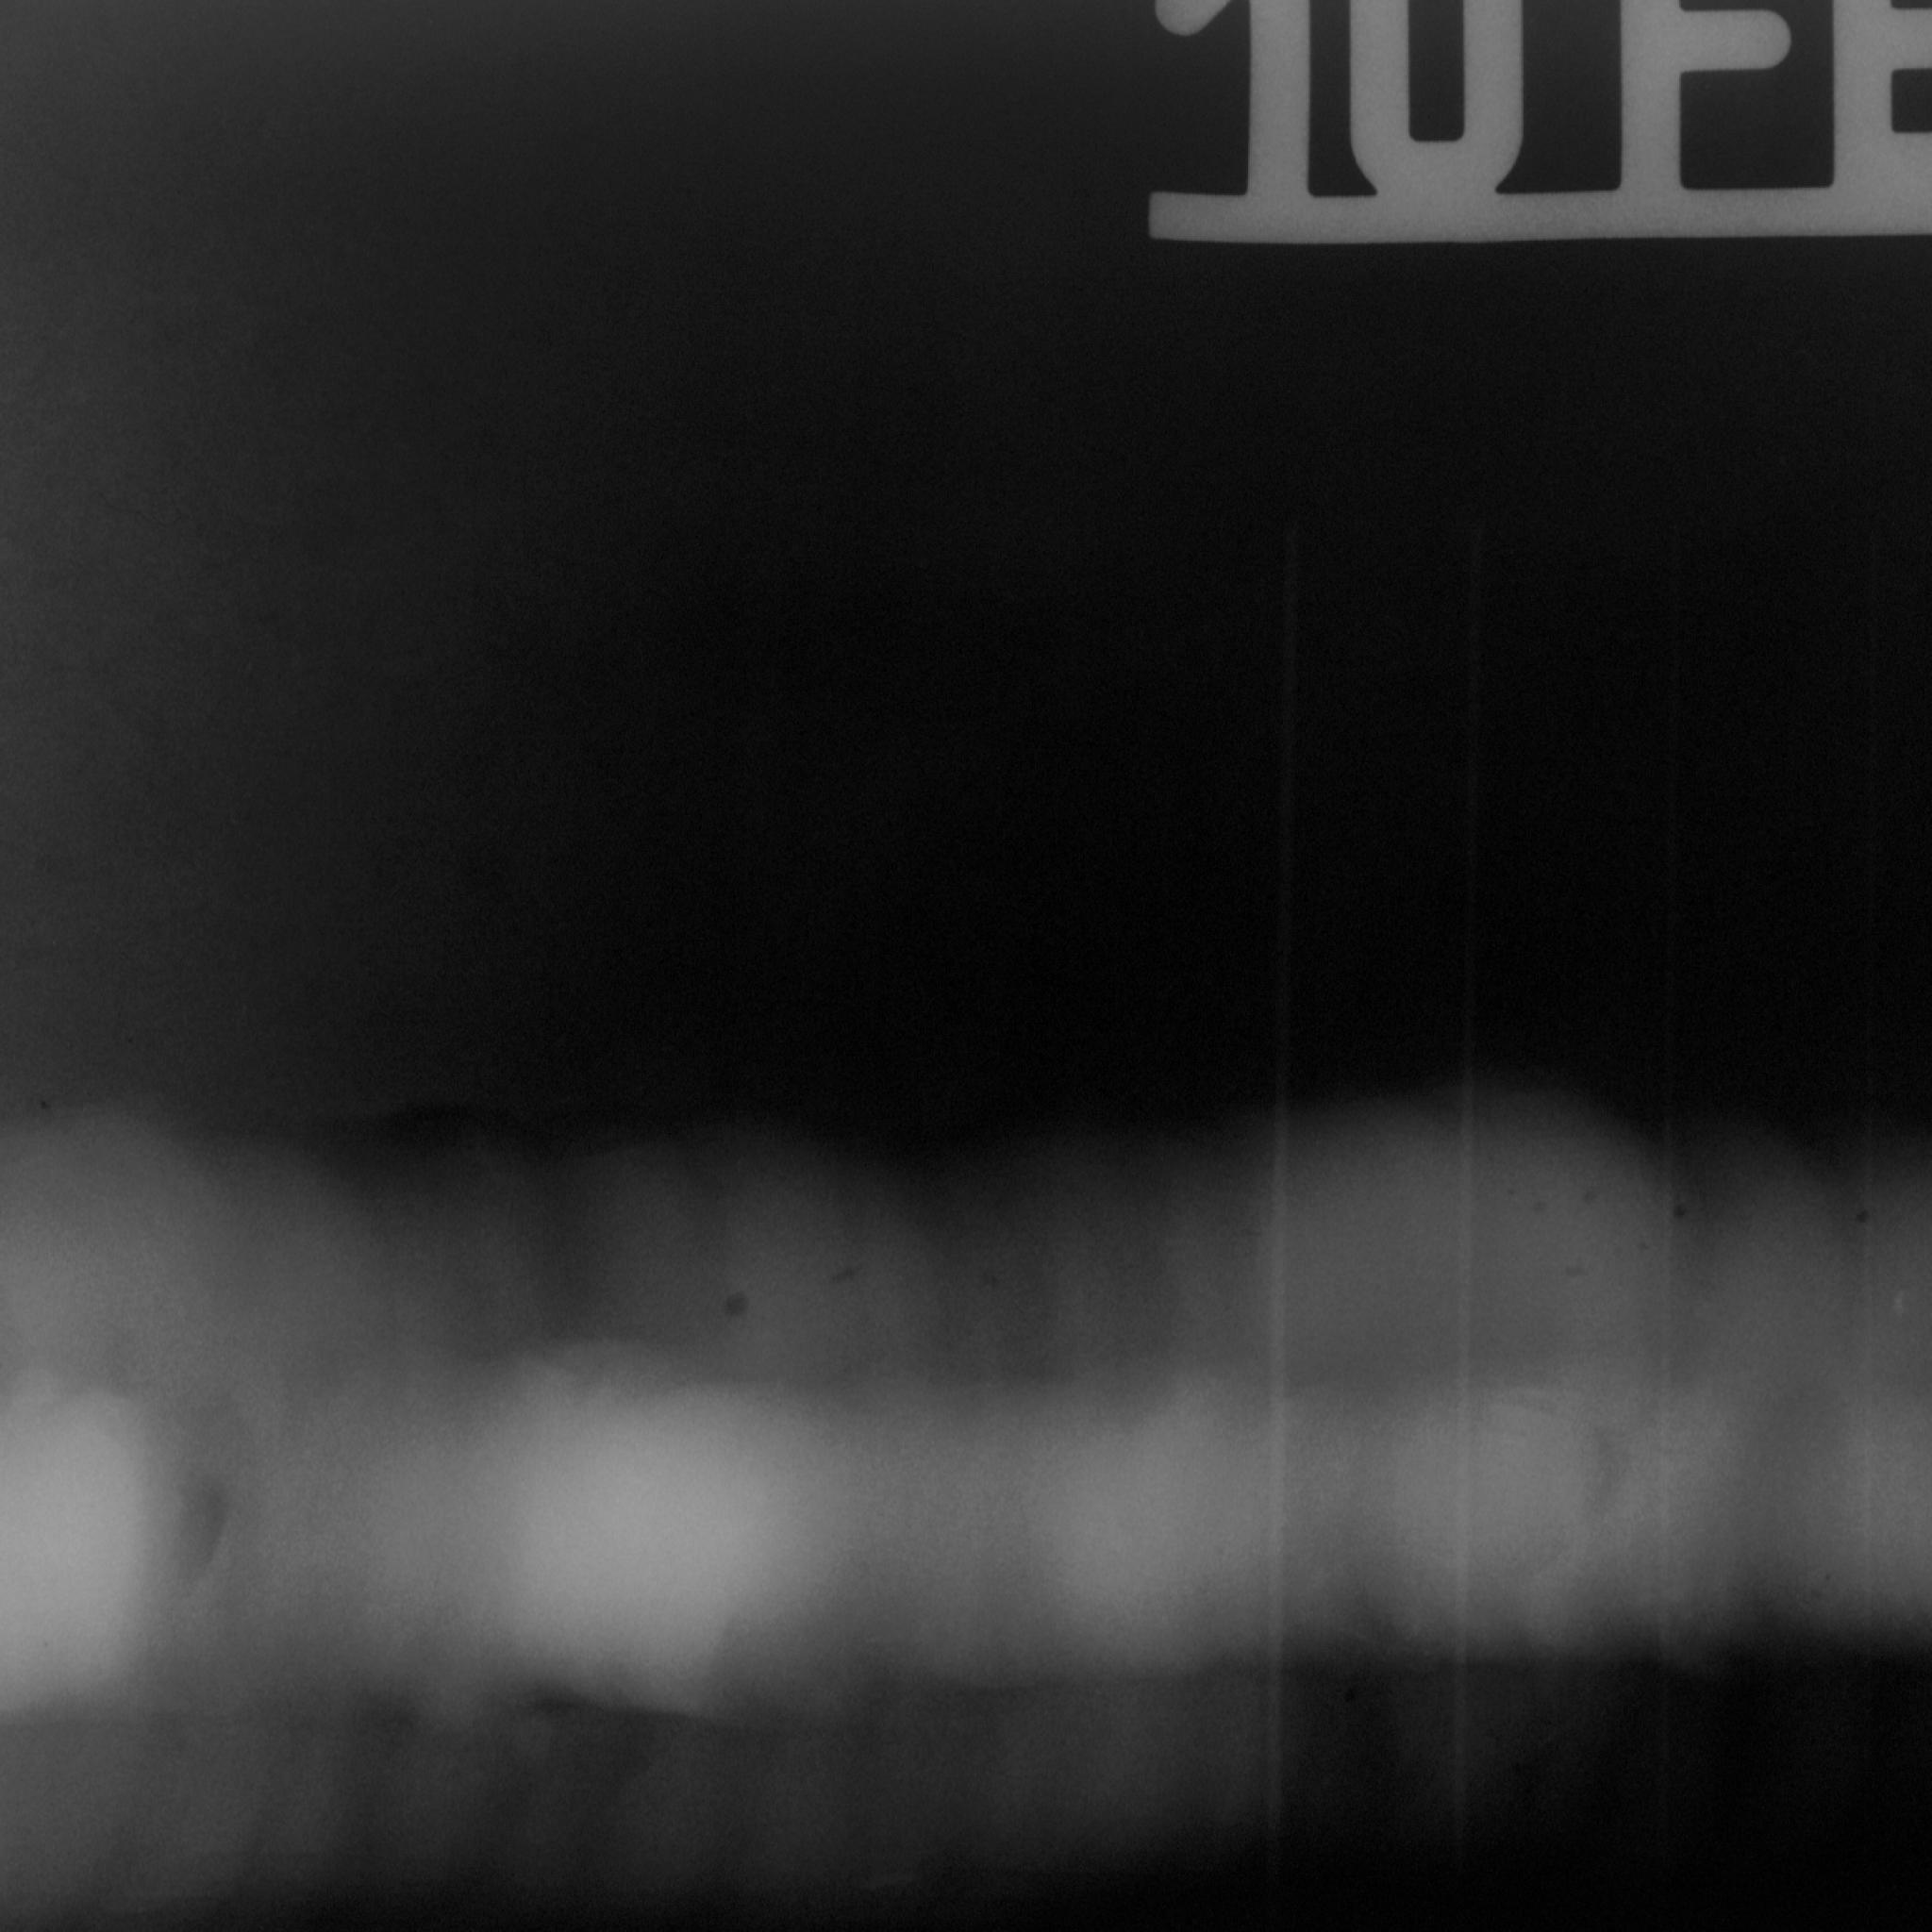Solda Ruim: (0, 1074, 1932, 1932)
